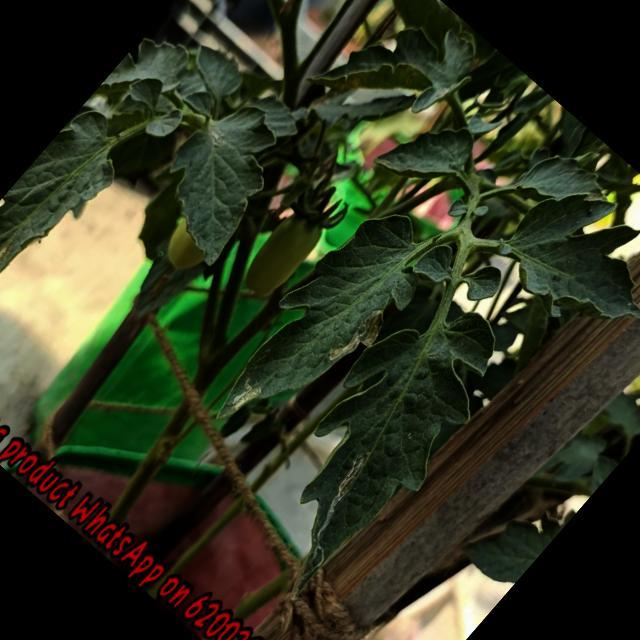Tomato healthy leaf: (130, 80, 316, 274), (485, 160, 640, 365), (372, 96, 486, 212)
Tomato target spot leaf: (208, 272, 534, 620), (190, 186, 456, 471), (0, 99, 146, 374)
